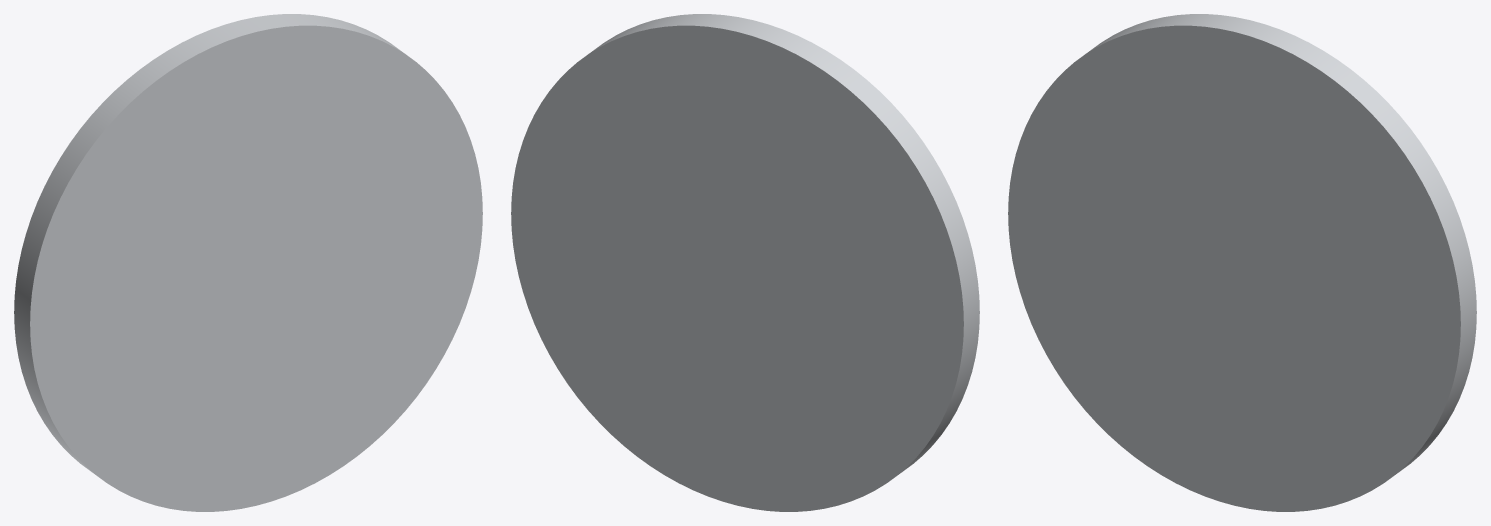
File: nano_center_silver.obj
The picture shows the model from 3 angles, left to right: view 1: azimuth 30°, elevation 25°; view 2: azimuth 150°, elevation 25°; view 3: azimuth 330°, elevation 25°; orthographic projection.
Bounding box in the file's own units: 0.0131 × 0.0131 × 0.0008.
1 material, 1 textured.
